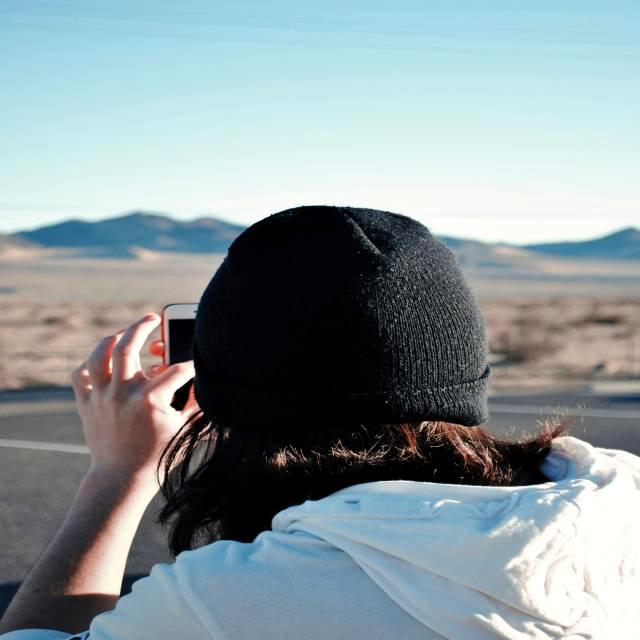no_hard_hat: (193, 206, 489, 436)
person: (2, 207, 640, 640)
